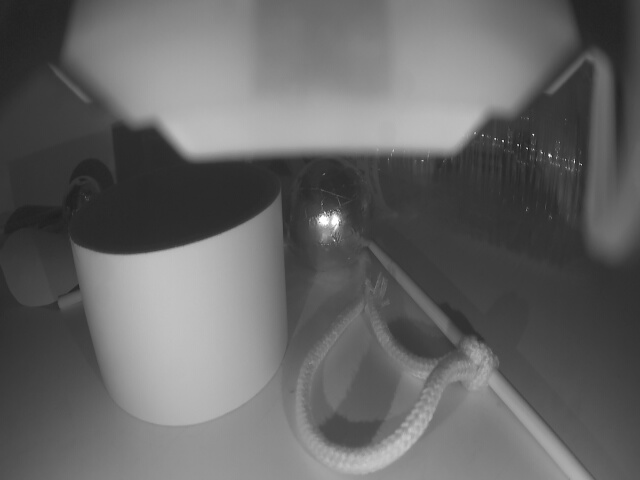Live: (289, 155, 368, 268)
